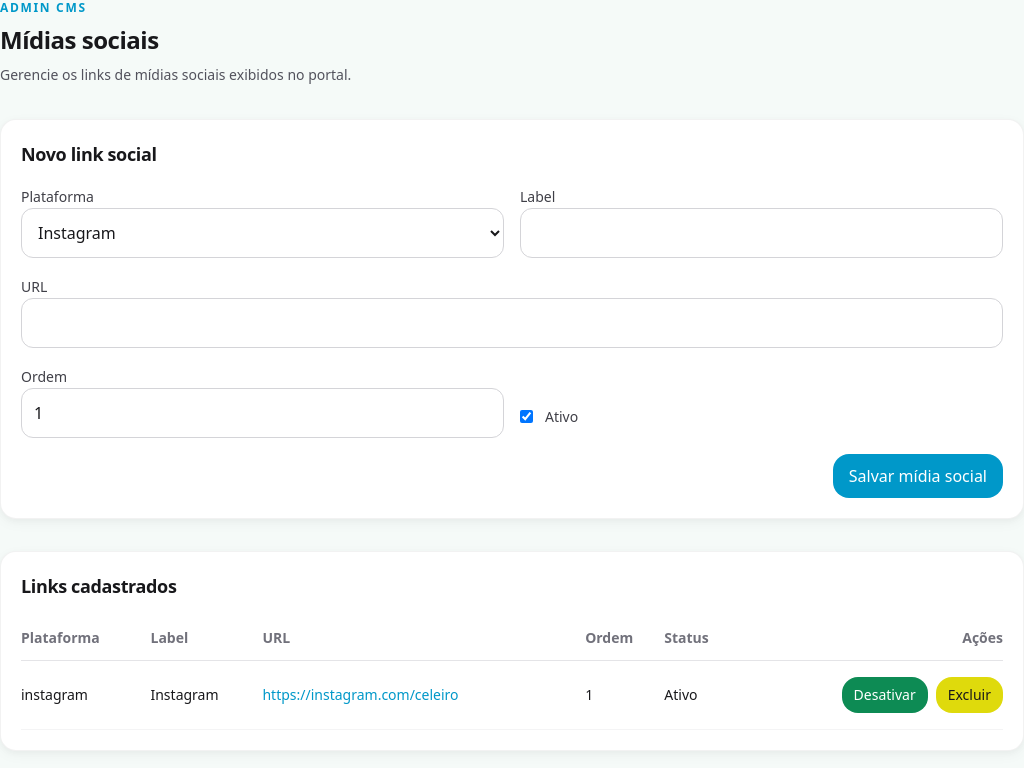
Test: AdminSocialLinksPage › deve exibir erro ao falhar na exclusão
Click the button "Excluir" at (969, 695), box [936,677,1003,713]
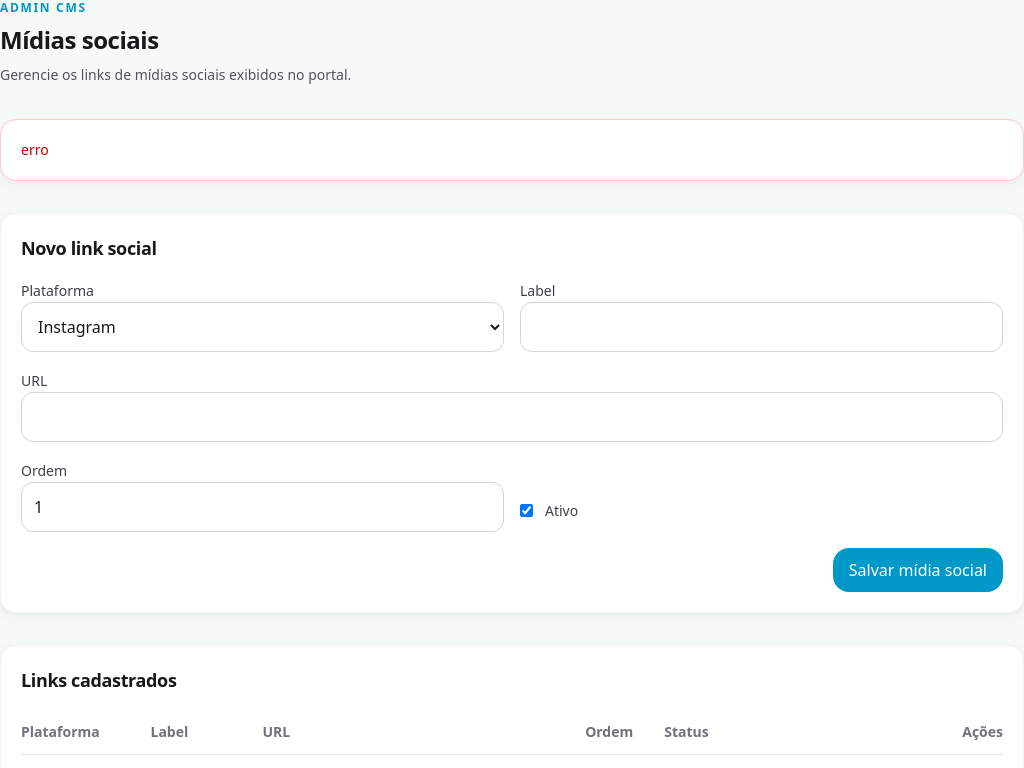
Result: the text "erro" is shown at [21,140,49,159]
